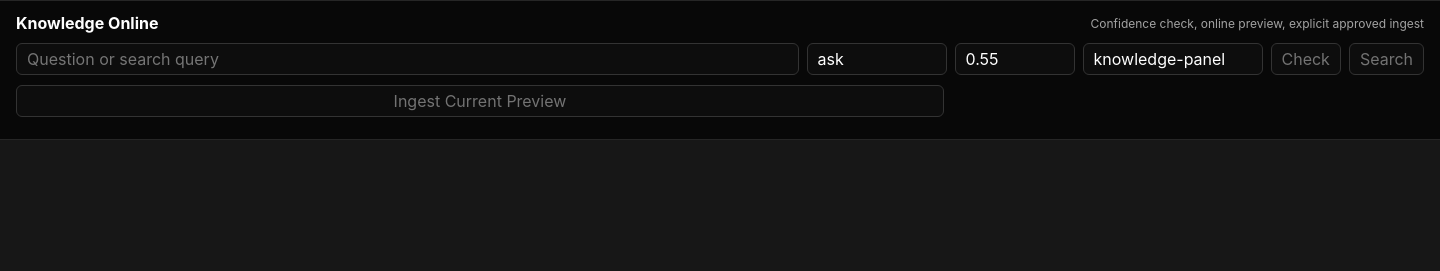
Test: KnowledgeOnlinePanel › checks local confidence and shows online research handoff
Type "unknown topic" into the field with placeholder "Question or search query". click: (407, 59)
box: x1=16 y1=43 x2=798 y2=75
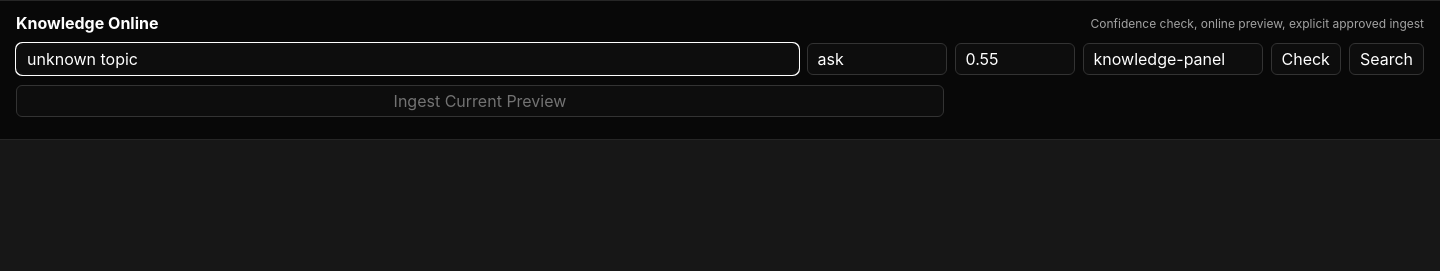
Click the button "Check". click: (1306, 59)
box: x1=1270 y1=43 x2=1341 y2=75
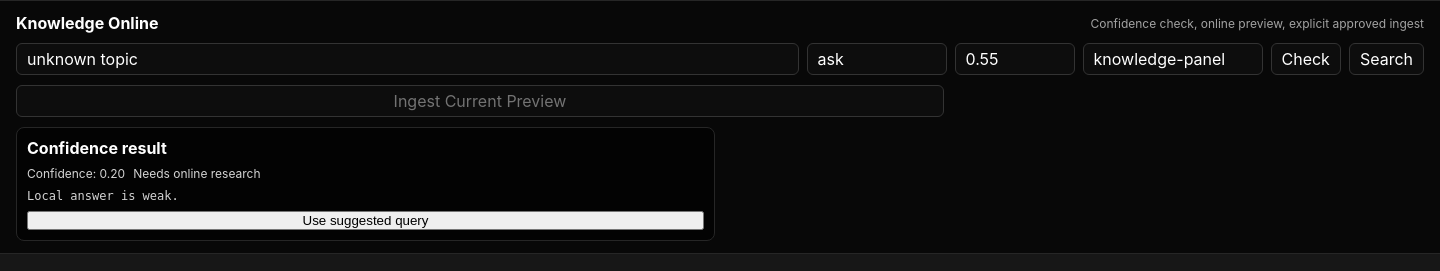
Expected: the text "Confidence: 0.20" is shown, x1=27 y1=166 x2=125 y2=181
Expected: the text "Needs online research" is shown, x1=133 y1=166 x2=260 y2=181
Expected: the text "Local answer is weak." is shown, x1=27 y1=189 x2=179 y2=203
